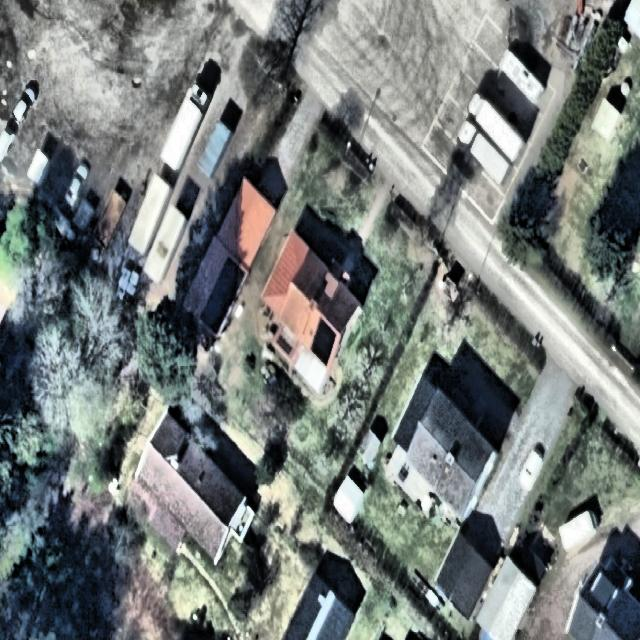roof_pv: (222, 253, 248, 318), (310, 315, 338, 370), (203, 274, 224, 334)
